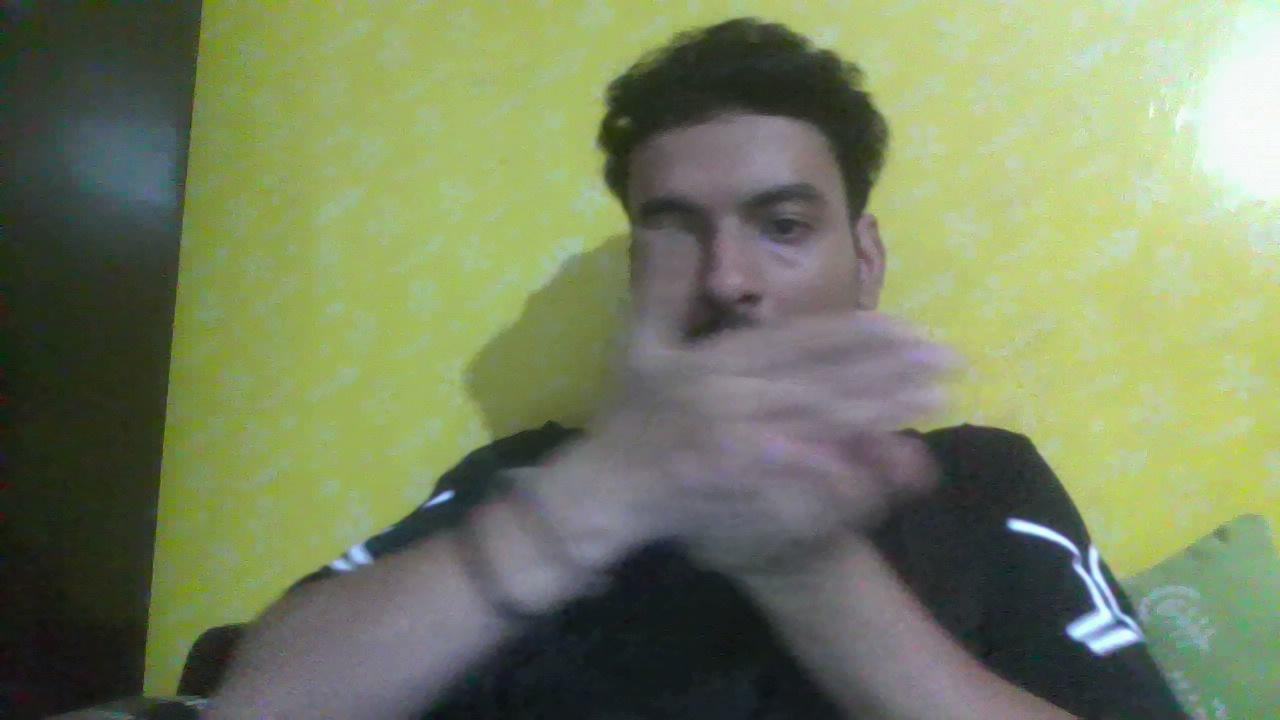stop: (571, 210, 958, 588)
